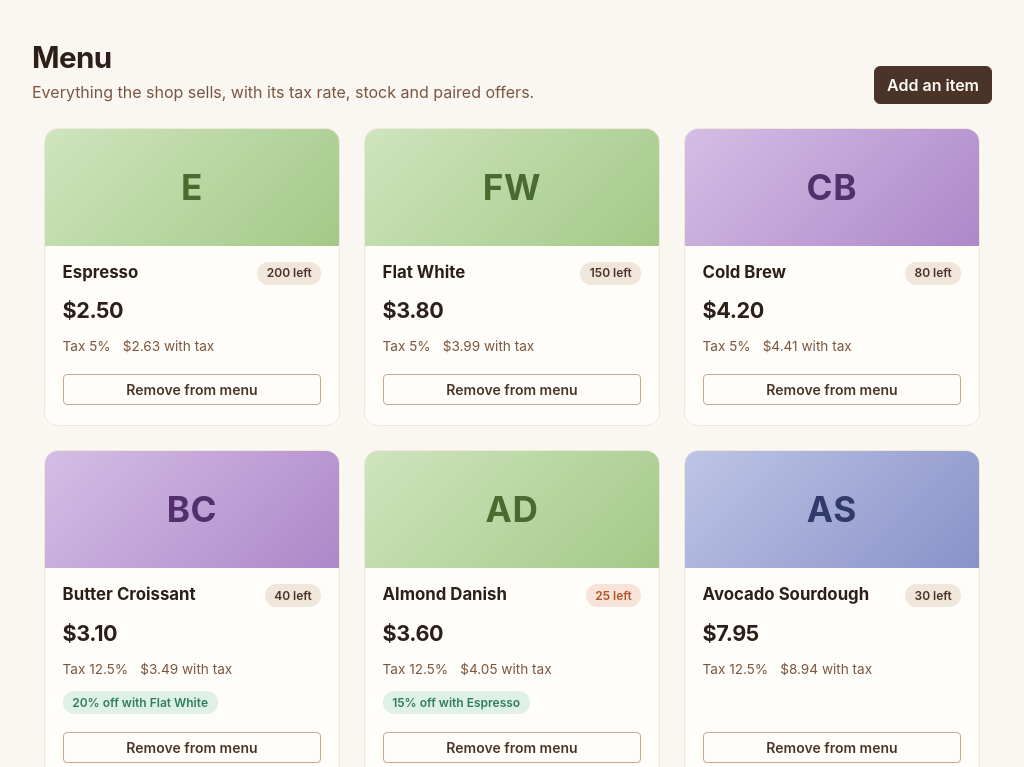
<Items /> › removes an item from the grid once the API has accepted the delete
Click the button "Remove from menu" below "$2.63": click(192, 390) [63,374,321,405]
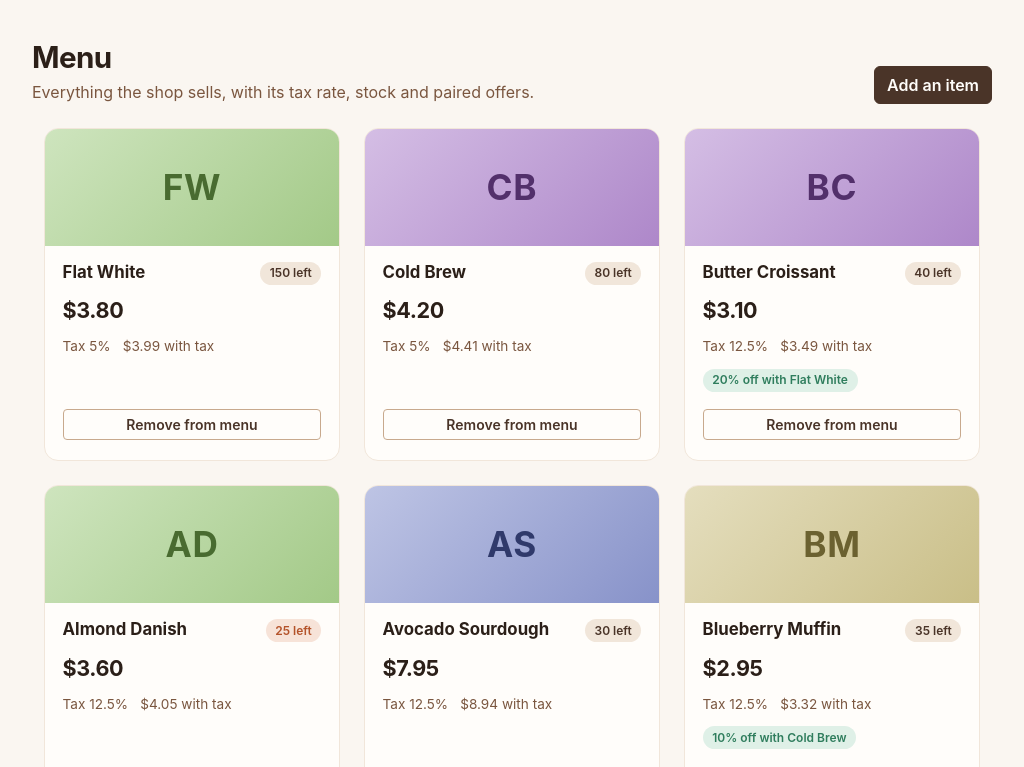
Expected: the element "Flat White" is shown, [44,128,340,461]
Expected: the heading "Espresso" is gone
